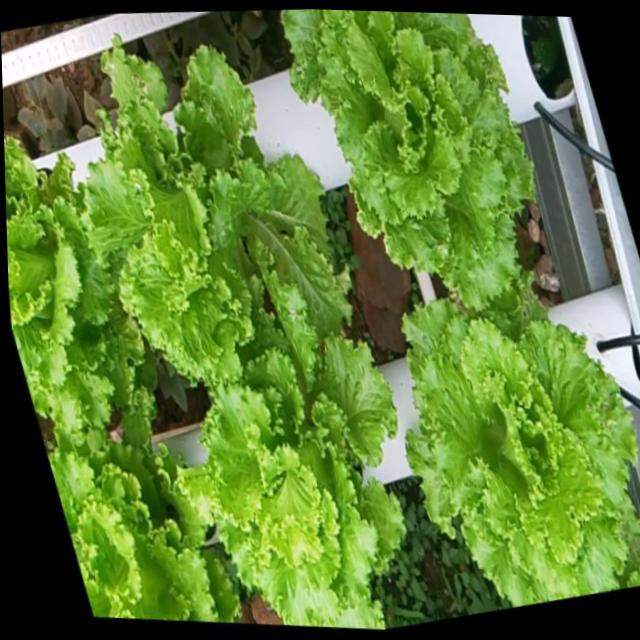Mature: (73, 43, 345, 389), (280, 9, 533, 317), (399, 303, 640, 610), (180, 323, 399, 629), (4, 131, 134, 423), (43, 426, 231, 622)
